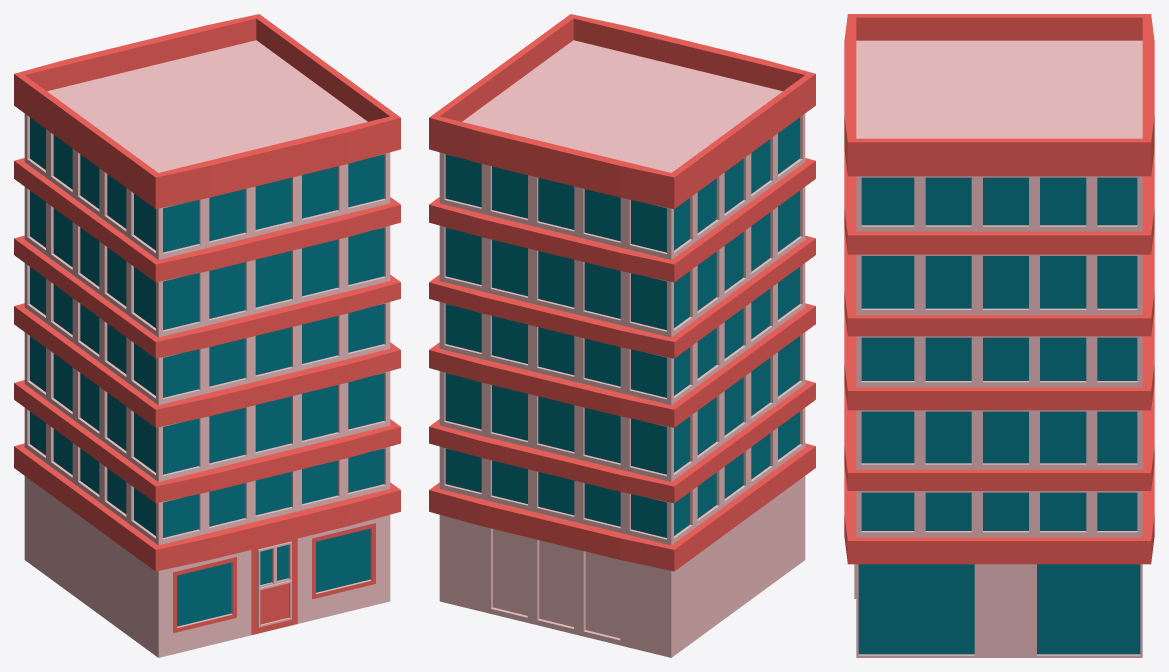
3 renders of one model, left to right at view 1: azimuth 30°, elevation 25°; view 2: azimuth 150°, elevation 25°; view 3: azimuth 270°, elevation 25°, orthographic. The views are drawn at different scales.
Parts seen in each view (by area): view 1: 5; view 2: 5; view 3: 5.
Part boxes in pixels (x1,y1,x2,y2): 5: [14, 14, 400, 657]; 5: [429, 14, 815, 657]; 5: [844, 14, 1154, 657].
Bounding box in the file's own units: 1059 × 2000 × 1083.
